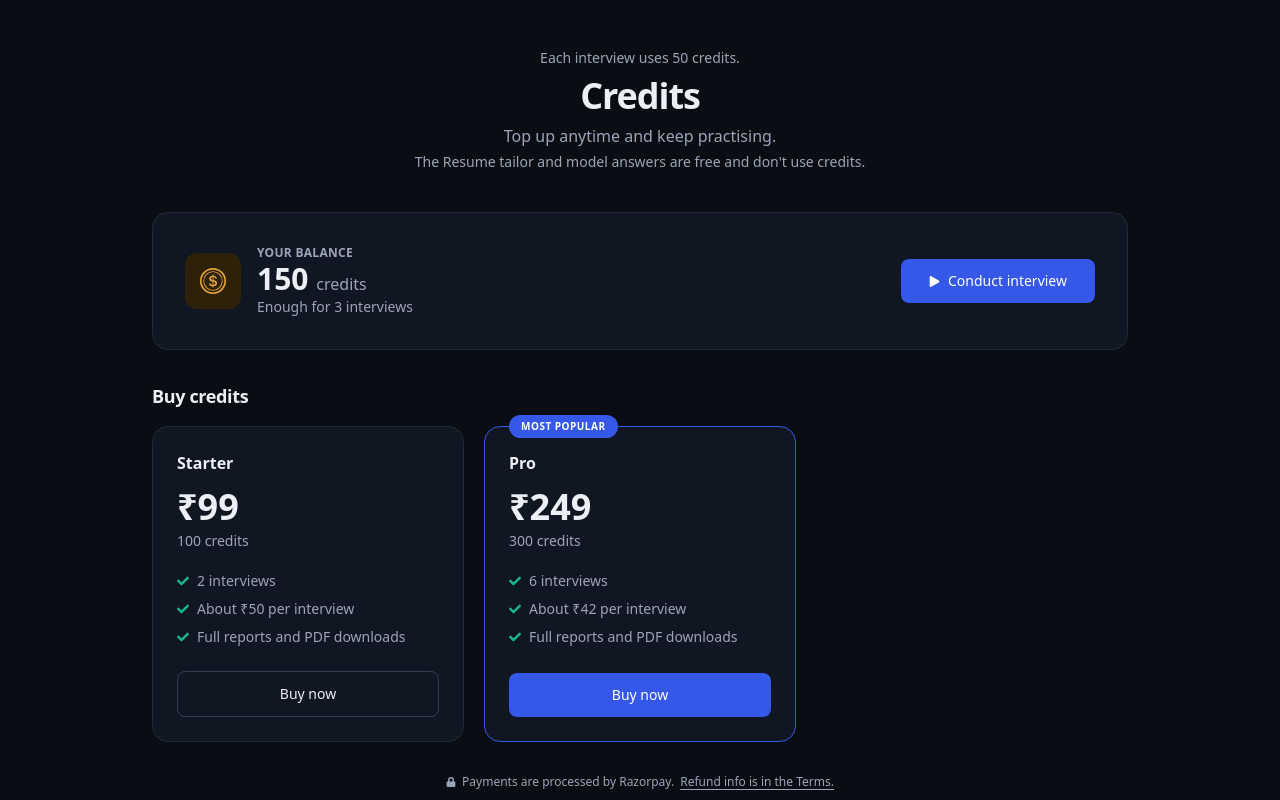
Test case: Pricing: buying credits › keeps the credits unchanged and shows the payment ID when verifying fails
Click the button "Buy now" below "42" at (640, 695), box [509,673,771,717]
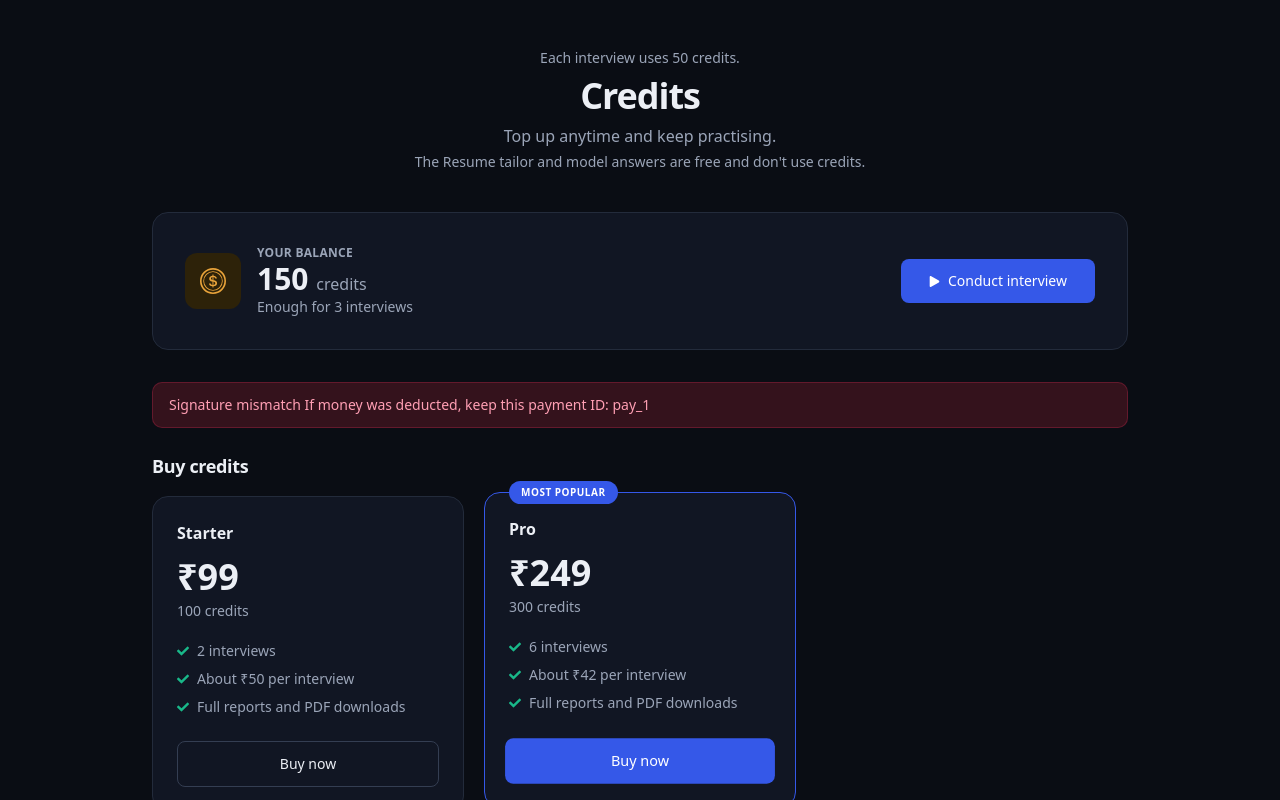
Expected: the message shows "Signature mismatch", [169,395,650,414]
Expected: the message shows "If money was deducted, keep this payment ID: pay_1", [169,395,650,414]
